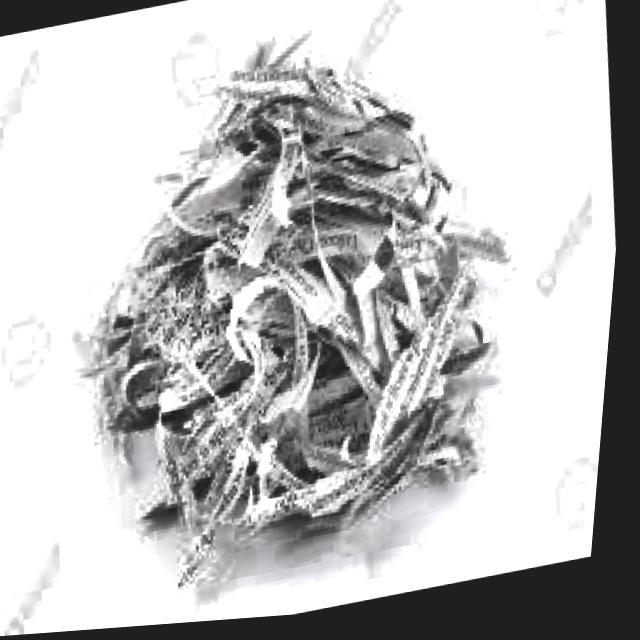Paper: (27, 0, 558, 612)
